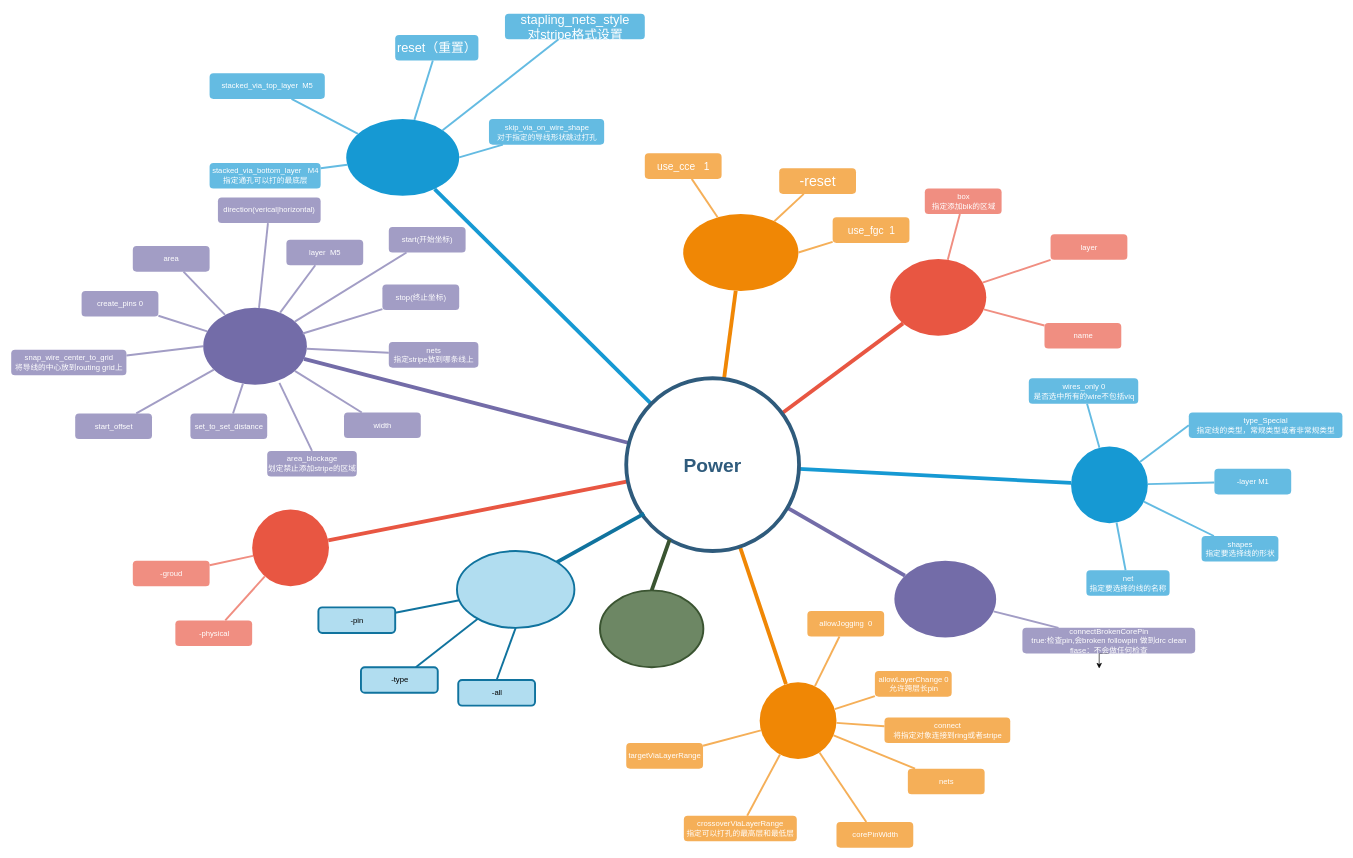
This 1353x858 diagram has some shape labels left out. The centre of each missing label's shape, as x and y in pixels:
"addNet" belongs at point (290, 547).
"addRing 添加电源环线" belongs at point (651, 628).
"addStripe 添加电源条线" belongs at point (255, 346).
"createRouteBlk" belongs at point (938, 297).
"editSelect" belongs at point (1109, 484).
"globalNetConnect" belongs at point (515, 589).
"setAddStripeMode" belongs at point (402, 157).
"setSrouteMode" belongs at point (945, 598).
"setViaGenMode" belongs at point (740, 252).
"sroute" belongs at point (797, 720).
